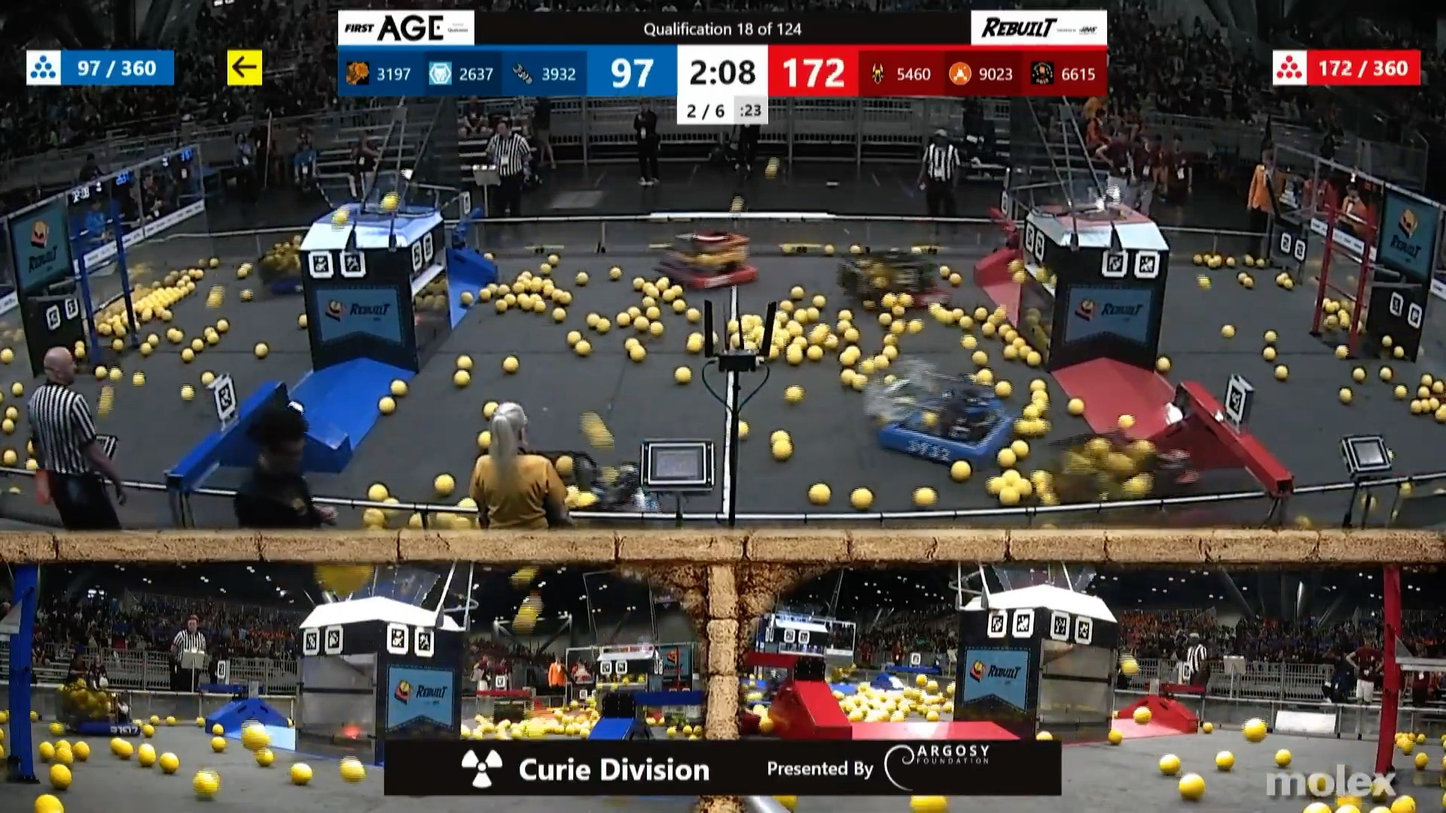bumpers: (879, 413, 1021, 465), (661, 258, 761, 292), (859, 286, 950, 318), (68, 708, 145, 739), (264, 279, 303, 296)
